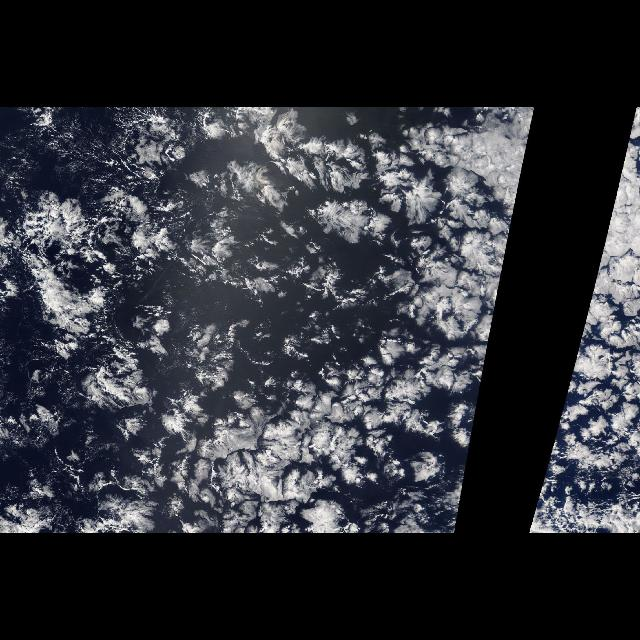Flower: (126, 107, 536, 533), (527, 107, 639, 533)
